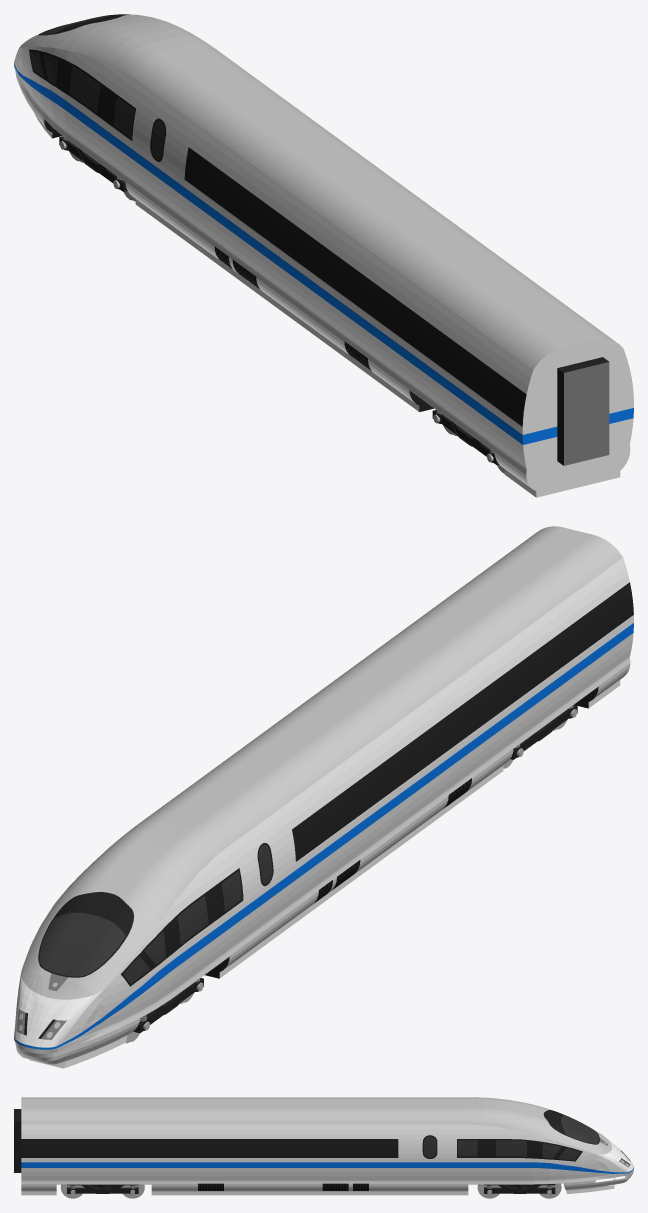
File: VELARO-simple-car6.glb
3 views of the same model, one above another, from view 1: azimuth 30°, elevation 25°; view 2: azimuth 150°, elevation 25°; view 3: azimuth 270°, elevation 25° (orthographic). The views are drawn at different scales.
Parts seen in each view (by area): view 1: Componente#6; view 2: Componente#6; view 3: Componente#6, wheel.007, wheel.001, wheel.003, wheel.005.
Boxes of the visible parts, x1,y1,x2,y2 form: Componente#6: (14,14,633,497); Componente#6: (14,526,633,1068); Componente#6: (14,1097,633,1195); wheel.007: (538,1183,561,1198); wheel.001: (60,1184,84,1198); wheel.003: (121,1184,144,1198); wheel.005: (477,1184,500,1198).
Bounding box in the file's own units: 2.94 × 3.99 × 25.44.
Materials: 10 (2 with a texture image).
